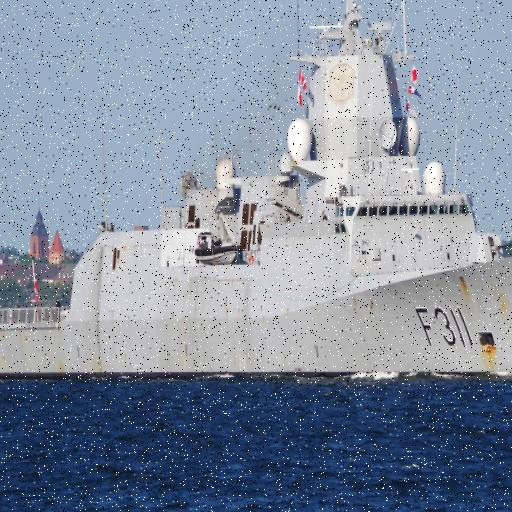Fragata: (1, 1, 512, 386)
